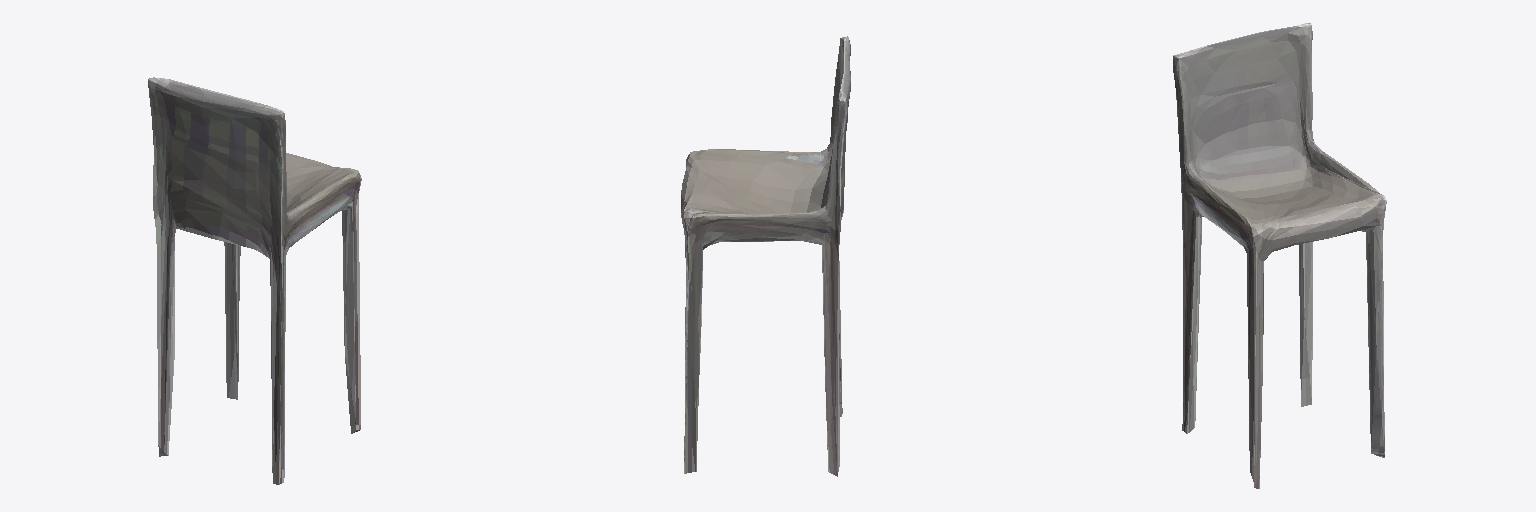
The picture shows the model from 3 angles: view 1: azimuth 30°, elevation 25°; view 2: azimuth 150°, elevation 25°; view 3: azimuth 270°, elevation 25°; orthographic projection.
Bounding box in the file's own units: 0.5055 × 1 × 0.5054.
1 materials, 1 textured.